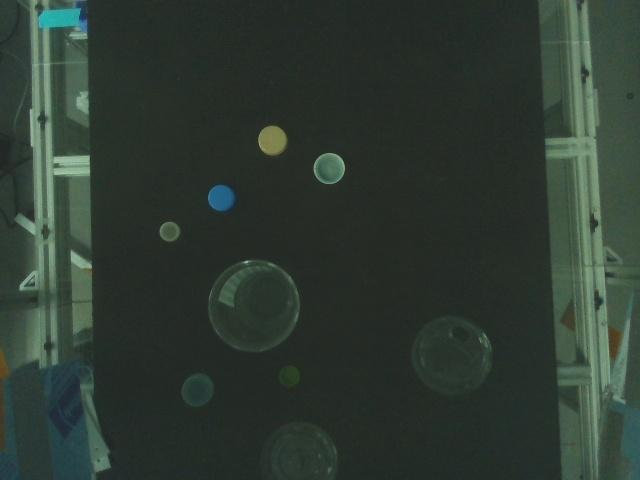plastic: (205, 257, 304, 356), (407, 309, 497, 399), (255, 418, 343, 480), (179, 370, 216, 411), (253, 121, 291, 159), (311, 149, 349, 187), (204, 181, 237, 214), (275, 361, 304, 391), (157, 219, 184, 244)
